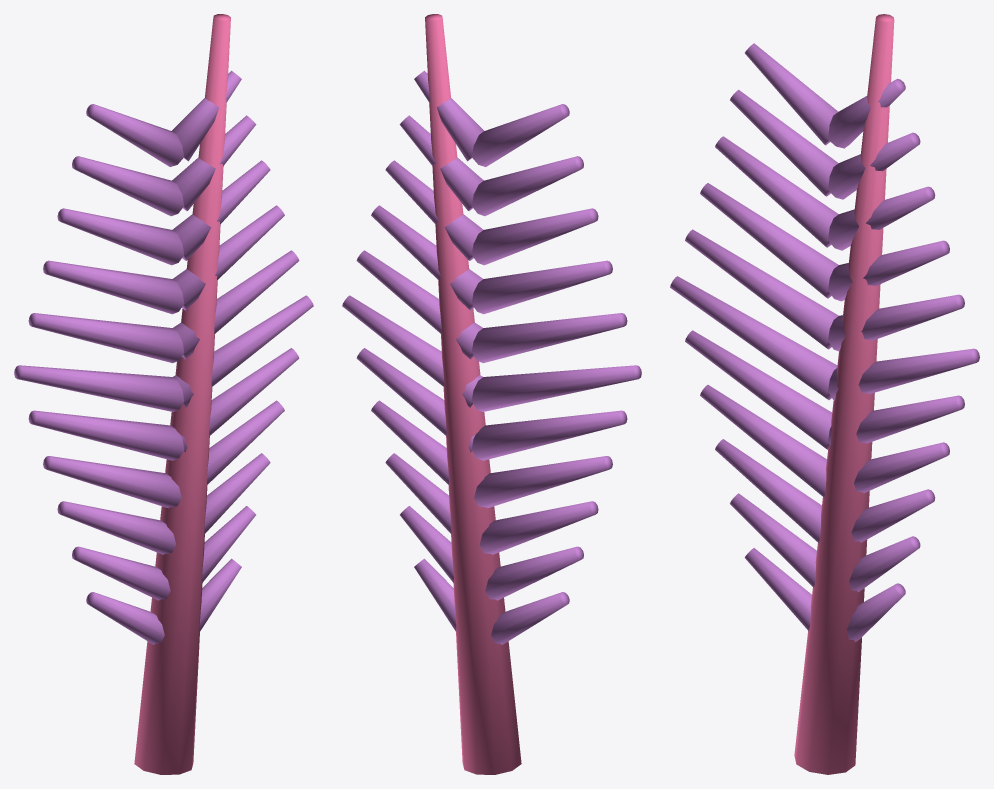
File: underwater-reef-worlds-sea-pen-6b51a06f__7010.glb
The picture shows the model from 3 angles, left to right: view 1: azimuth 30°, elevation 25°; view 2: azimuth 150°, elevation 25°; view 3: azimuth 330°, elevation 25°; orthographic projection. The views are drawn at different scales.
Parts seen in each view (by area): view 1: sea-pen; view 2: sea-pen; view 3: sea-pen.
Part boxes in pixels (x1=…): sea-pen: x1=14, y1=14, x2=313, y2=774; sea-pen: x1=342, y1=14, x2=641, y2=774; sea-pen: x1=670, y1=14, x2=979, y2=774.
Size of the model in its own units: 0.5074 by 1.2 by 0.09.
